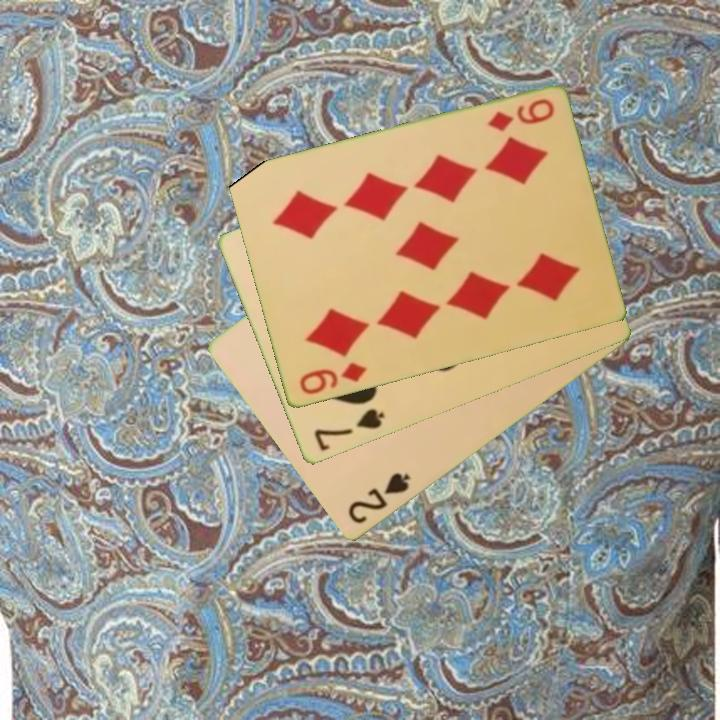2s: (344, 469, 413, 528)
7s: (310, 405, 387, 455)
9d: (483, 95, 557, 135), (295, 359, 370, 398)
